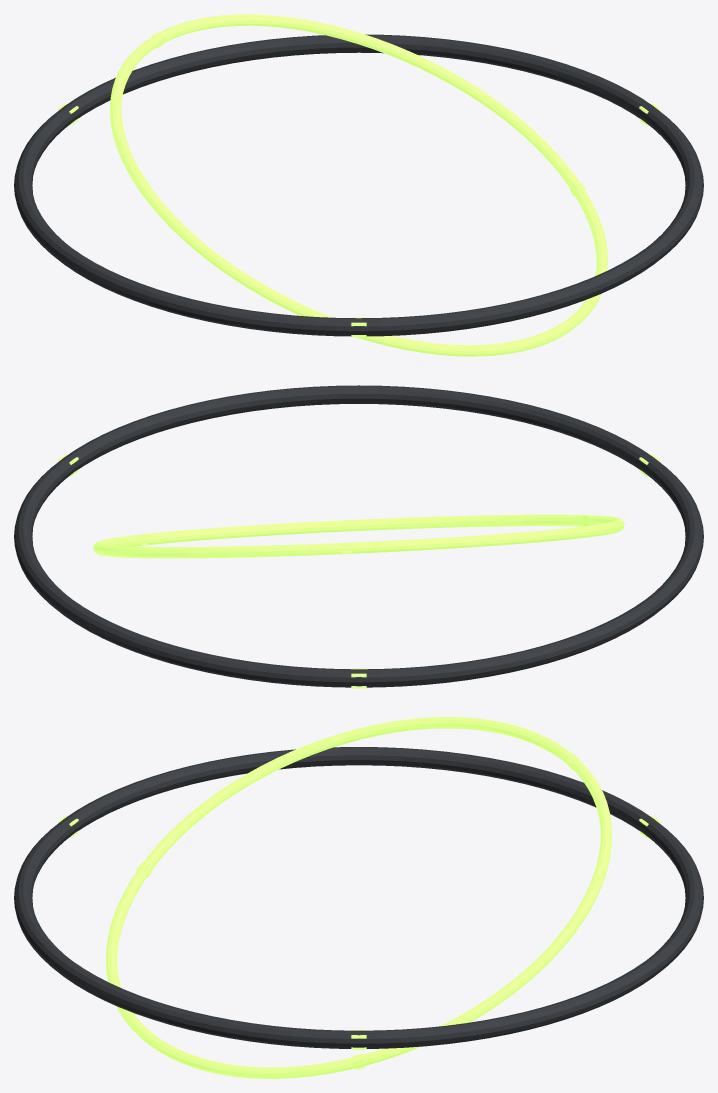
File: ringgate.glb
The picture shows the model from 3 angles, top to bottom: view 1: azimuth 30°, elevation 25°; view 2: azimuth 150°, elevation 25°; view 3: azimuth 270°, elevation 25°; orthographic projection.
Visible parts, largest first — view 1: RG_Outer, RG_Inner; view 2: RG_Outer, RG_Inner; view 3: RG_Outer, RG_Inner.
Boxes of the visible parts, x1,y1,x2,y2 form: RG_Outer: (14,34,703,336); RG_Inner: (110,14,607,356); RG_Outer: (14,385,703,687); RG_Inner: (93,514,624,558); RG_Outer: (14,747,703,1048); RG_Inner: (106,717,611,1078).
Size of the model in its own units: 4.11 by 1.26 by 4.11.
